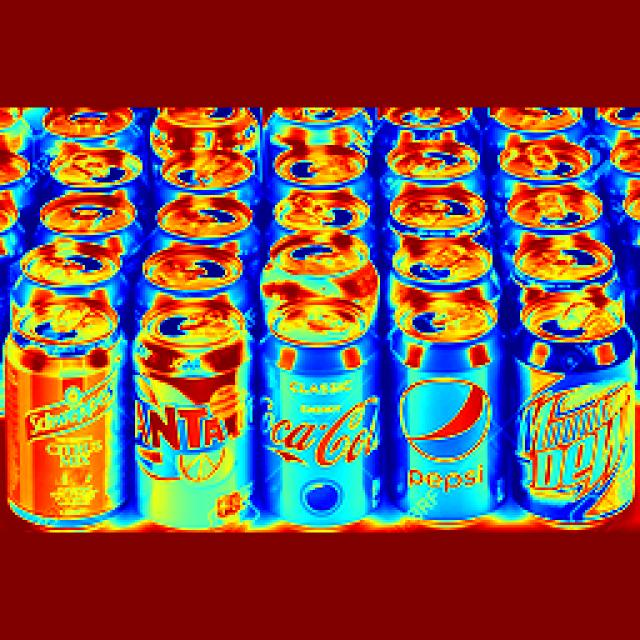Aluminium Food Cans: (504, 304, 638, 525), (388, 301, 512, 514), (5, 304, 134, 507), (267, 303, 379, 531), (137, 300, 257, 506), (518, 240, 615, 318), (139, 239, 243, 306), (498, 197, 608, 260), (261, 227, 364, 293), (23, 235, 128, 298), (388, 238, 486, 305), (391, 199, 505, 253), (47, 148, 163, 196), (275, 151, 381, 195), (160, 202, 260, 246), (42, 204, 155, 240), (271, 198, 372, 238), (496, 138, 585, 183), (152, 152, 242, 194), (385, 148, 480, 186)
